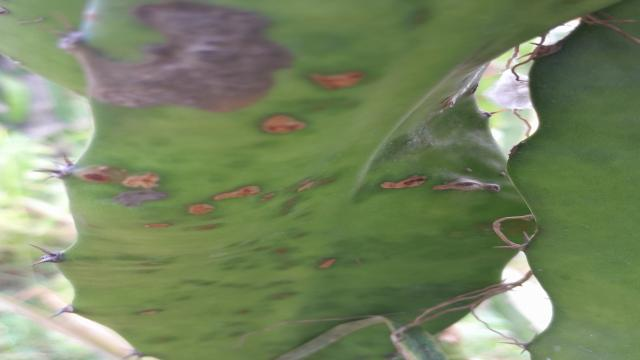stemcanker: (76, 161, 162, 192), (306, 68, 374, 93), (259, 110, 308, 139), (379, 169, 430, 194), (210, 183, 263, 203), (287, 175, 336, 192), (184, 201, 216, 216)
